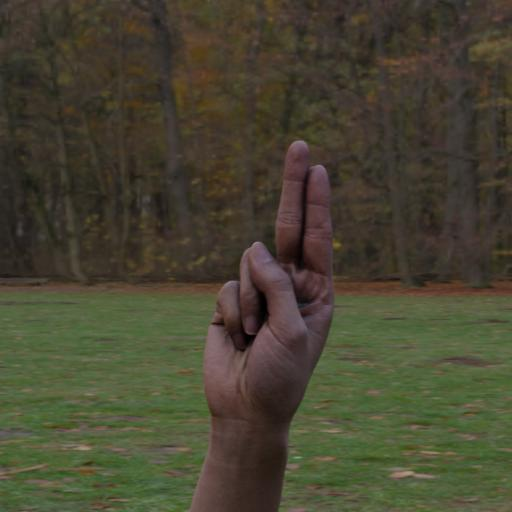U: (186, 130, 349, 457)
